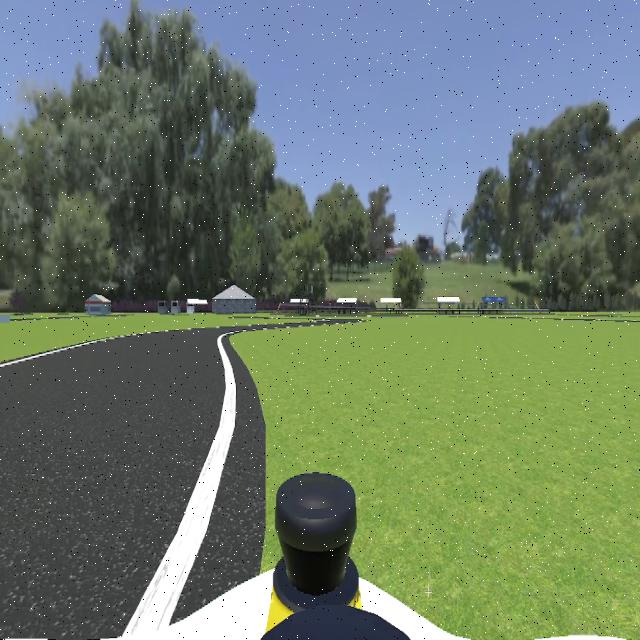road: (0, 330, 224, 639)
solid_line: (124, 336, 236, 636), (0, 338, 111, 370)
